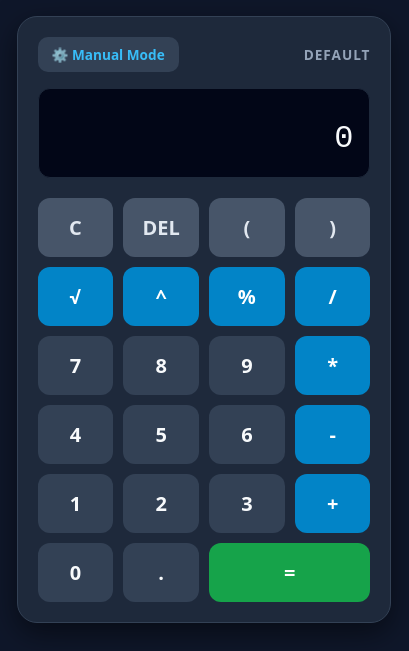
App Component - Interface & Interactions › It should update the display when the numeric buttons are clicked.
What coordinates should you click on to do the following:
click the button "5"
I would click on:
 (161, 434)
Its box is top-left (123, 404), bottom-right (199, 464).
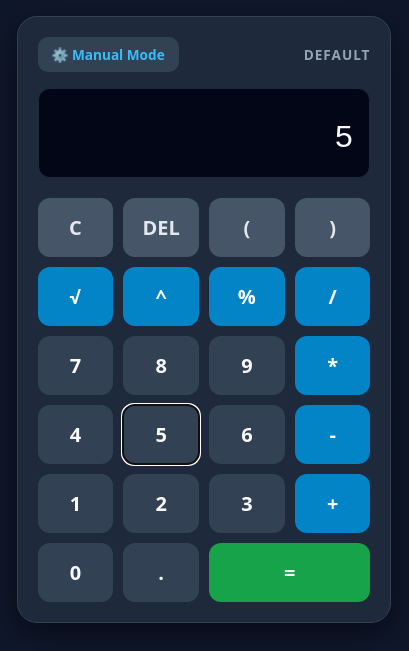
What coordinates should you click on to do the following:
click the button "+"
I would click on:
 (333, 503)
Its box is top-left (295, 474), bottom-right (370, 532).
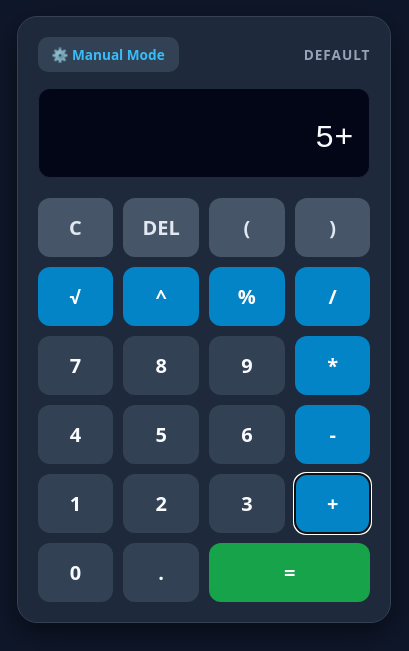
What coordinates should you click on to do the following:
click the button "3"
I would click on:
 (247, 503)
Its box is top-left (209, 474), bottom-right (285, 532).
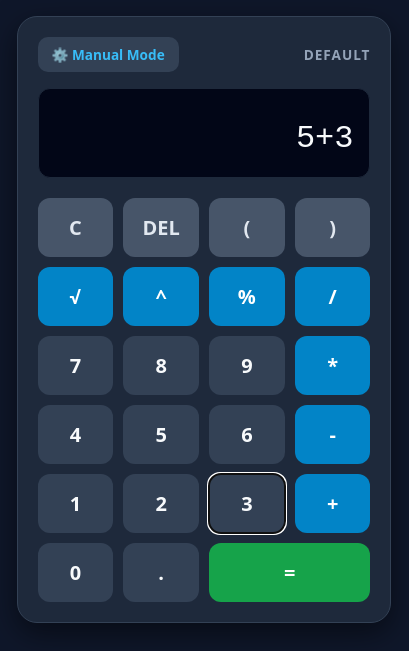
expect the text "5+3" is shown: met, box top-left (296, 120), bottom-right (354, 156)
